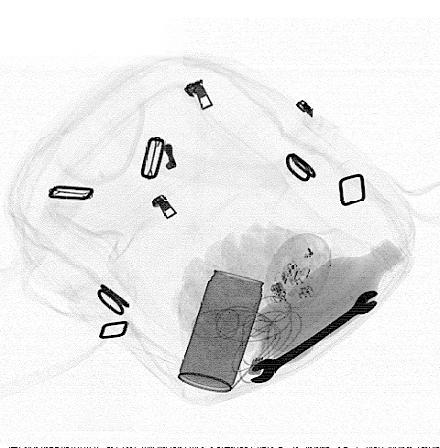Wrench: (250, 288, 381, 384)
